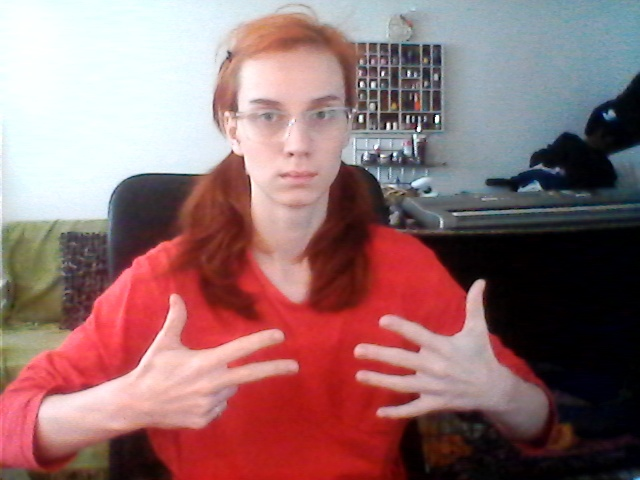osem: (141, 276, 503, 426)
